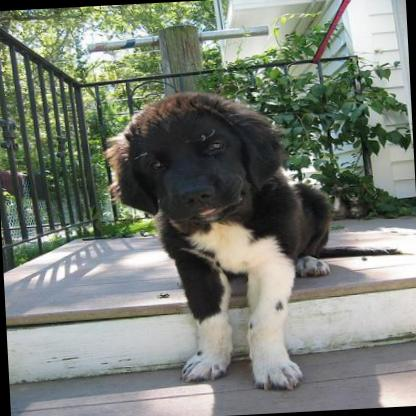Newfoundland: (96, 79, 406, 398)
